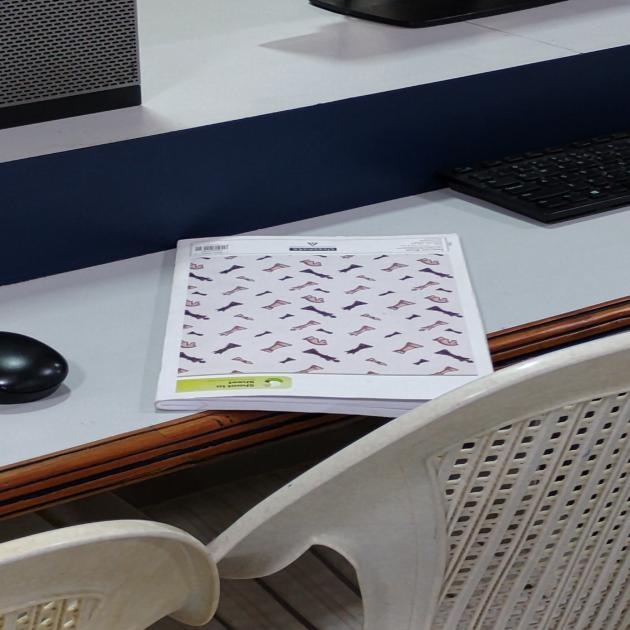keyboard: (473, 114, 630, 216)
notebook: (178, 220, 511, 424)
